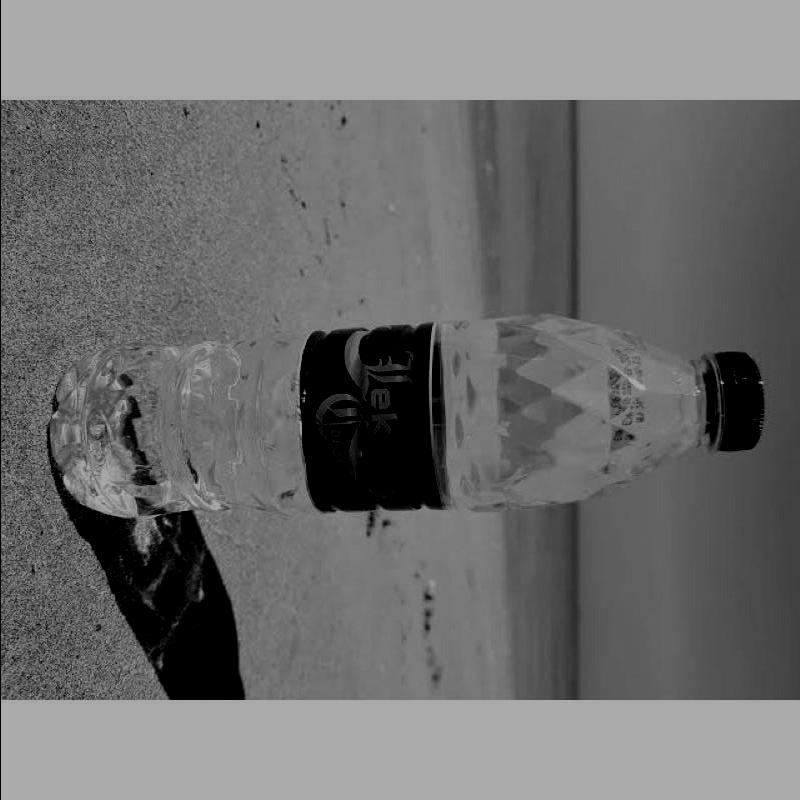bottle: (42, 305, 768, 533)
